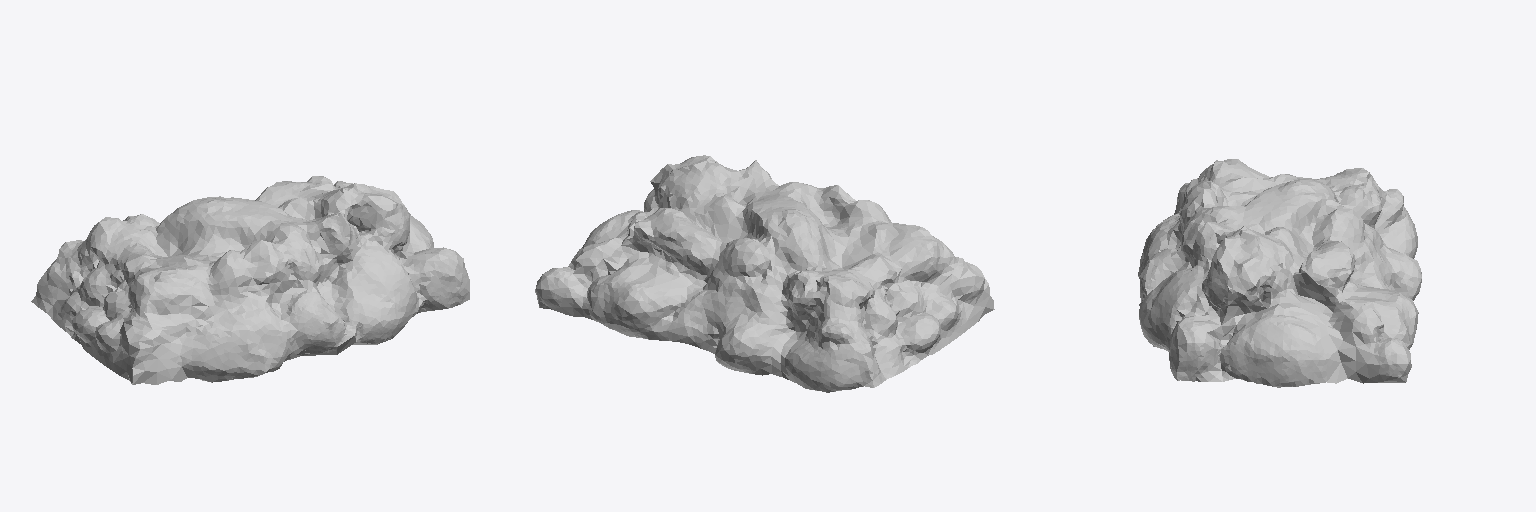
File: Debris.obj
3 renders of one model, left to right at view 1: azimuth 30°, elevation 25°; view 2: azimuth 150°, elevation 25°; view 3: azimuth 270°, elevation 25°, orthographic.
Parts seen in each view (by area): view 1: Debris_Cube.003; view 2: Debris_Cube.003; view 3: Debris_Cube.003.
Boxes of the visible parts, x1=… form: Debris_Cube.003: x1=31, y1=176, x2=469, y2=384; Debris_Cube.003: x1=535, y1=155, x2=994, y2=392; Debris_Cube.003: x1=1138, y1=159, x2=1421, y2=387.
Size of the model in its own units: 7 by 2.44 by 4.93.